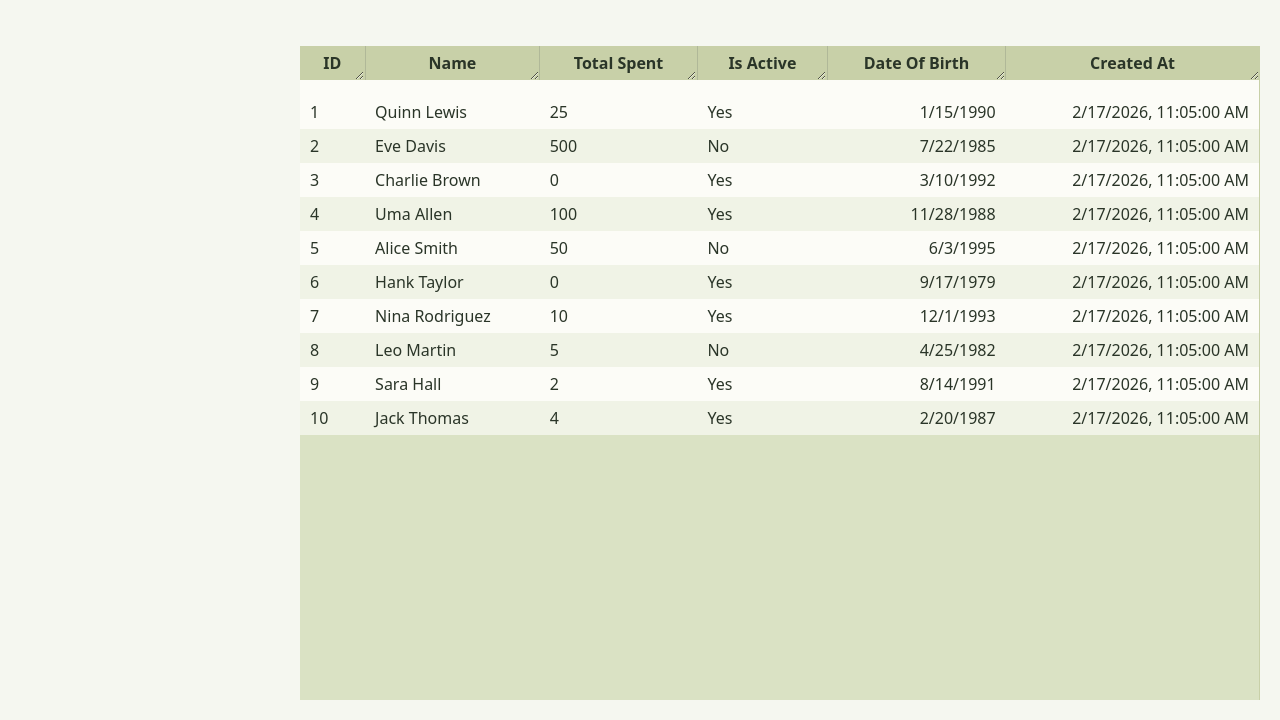
Scenario: Table › sets the sort indicator to asc when a column is clicked
Click the button "Name" at (452, 63), box [365,46,540,80]
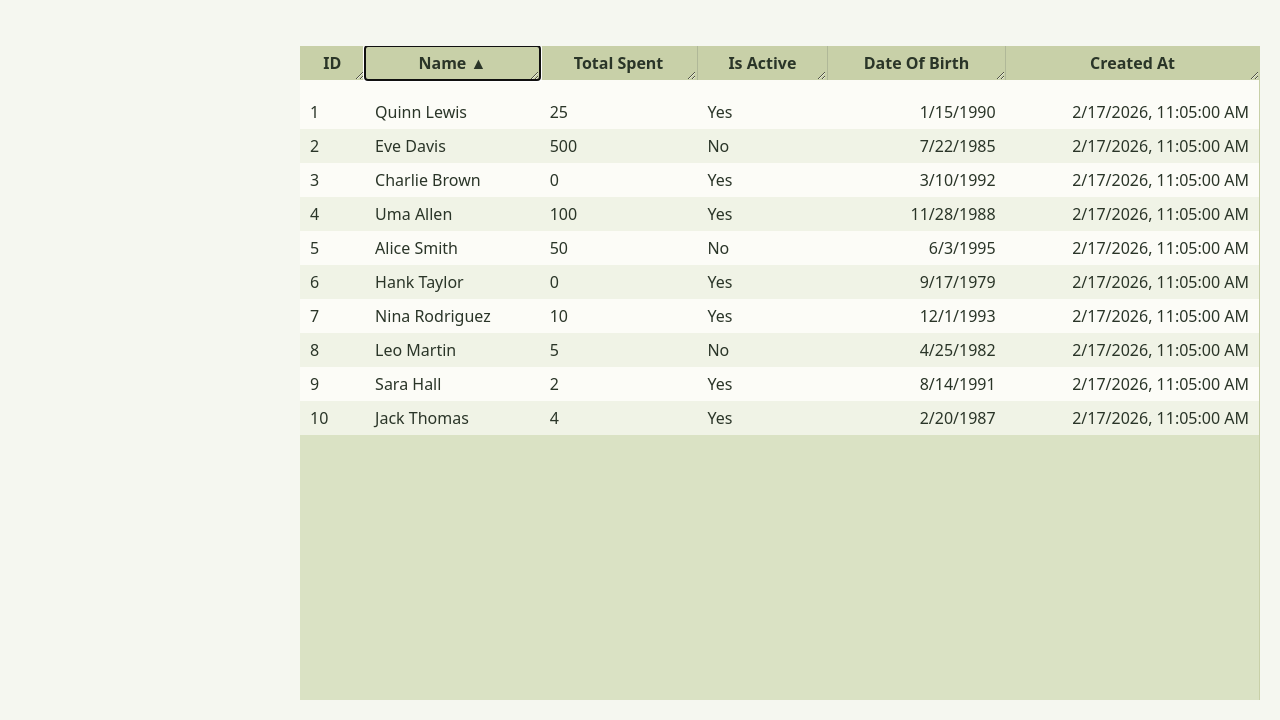
Expected: the button "Name ▲" is shown, [365,46,540,80]
